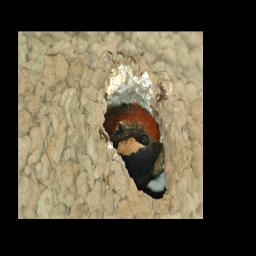Swallow: (103, 103, 161, 189)
